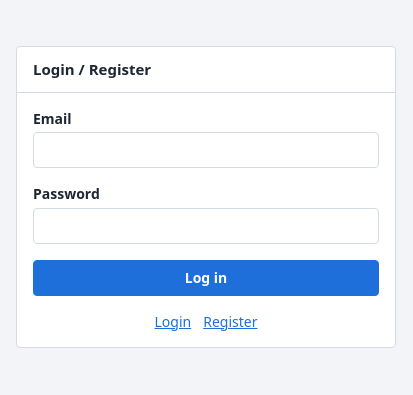
Test: LoginPage › shows the generic banner for wrong credentials
Type "alice@example.com" into the field labelled "Email" at [206, 150], box [33,132,379,168]
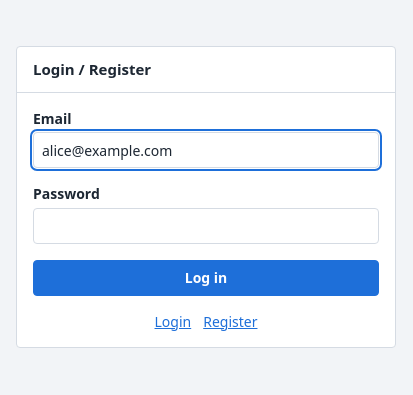
Type "wrong-pass1" into the password field labelled "Password" at [206, 226], box [33,208,379,244]
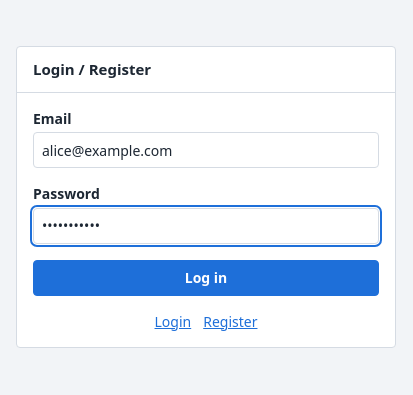
Click the button "Log in" at [206, 278], box [33,260,379,296]
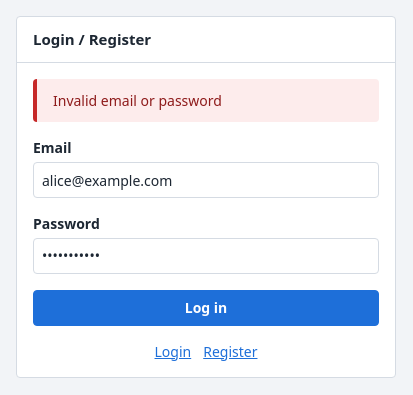
expect the message reads "Invalid email or password": met, box [53,91,222,110]
